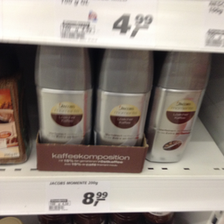coffee: (150, 49, 211, 164), (33, 45, 91, 143), (96, 49, 151, 145)
